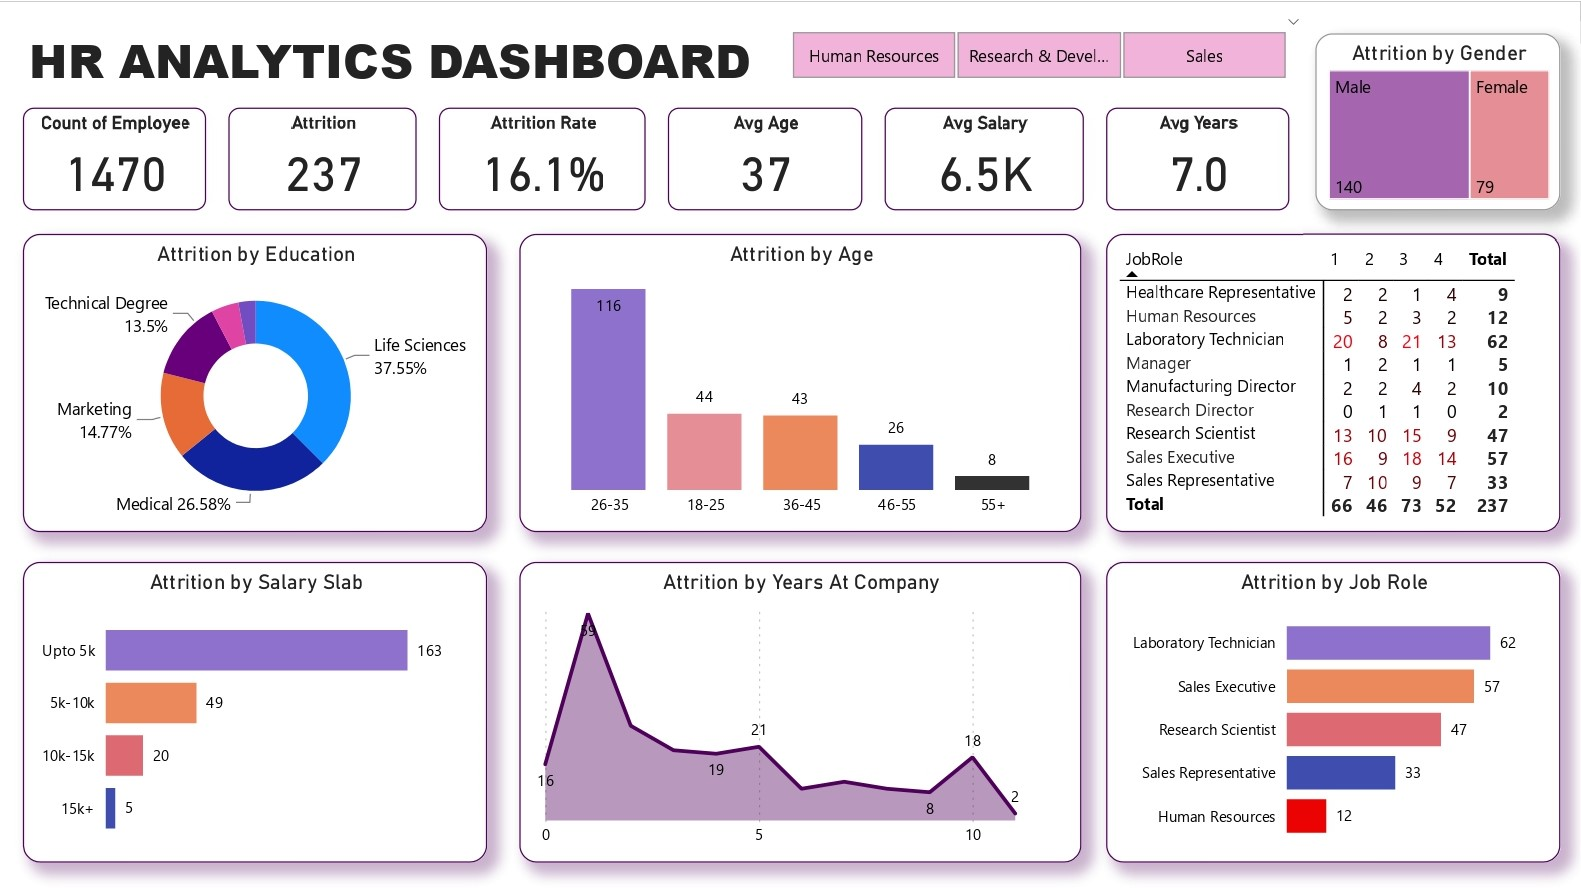

The page's visual inventory and layout, read from the dashboard file:
{"tool":"powerbi","page":{"name":"HR Analytics","canvas":[1280,720],"ordinal":0},"visuals":[{"type":"card","title":"Count of Employee","fields":{"Values":["CountNonNull(HR_Analytics.EmpID)"]},"box":[22.4,86.3,147.9,82.9],"z":0},{"type":"card","title":"Attrition","fields":{"Values":["Sum(HR_Analytics.Attrition_count)"]},"box":[188.4,86.3,151.2,82.9],"z":1000},{"type":"card","title":"Avg Age","fields":{"Values":["Avg(HR_Analytics.Age)"]},"box":[542.8,86.3,156.8,82.9],"z":2000},{"type":"card","title":"Attrition Rate","fields":{"Values":["HR_Analytics.AttritionRate"]},"box":[357.8,86.3,166.9,82.9],"z":3000},{"type":"card","title":"Avg Salary","fields":{"Values":["Avg(HR_Analytics.MonthlyIncome)"]},"box":[717.8,86.3,161.3,82.9],"z":4000},{"type":"card","title":"Avg Years","fields":{"Values":["Avg(HR_Analytics.YearsAtCompany)"]},"box":[897.2,86.3,147.9,82.9],"z":5000},{"type":"donutChart","title":"Attrition by Education","fields":{"Category":["HR_Analytics.EducationField"],"Y":["Sum(HR_Analytics.Attrition_count)"]},"box":[22.4,188.2,374.1,240.8],"z":6000},{"type":"columnChart","title":"Attrition by Age","fields":{"Category":["HR_Analytics.AgeGroup"],"Y":["Sum(HR_Analytics.Attrition_count)"]},"box":[423.4,188.2,453.7,240.8],"z":7000},{"type":"pivotTable","fields":{"Rows":["HR_Analytics.JobRole"],"Columns":["HR_Analytics.JobSatisfaction"],"Values":["Sum(HR_Analytics.Attrition_count)"]},"box":[897.2,188.2,366.3,240.8],"z":8000},{"type":"barChart","title":"Attrition by Salary Slab","fields":{"Category":["HR_Analytics.SalarySlab"],"Y":["Sum(HR_Analytics.Attrition_count)"]},"box":[22.4,452.5,374.1,243.1],"z":9000},{"type":"barChart","title":"Attrition by Job Role","fields":{"Category":["HR_Analytics.JobRole"],"Y":["Sum(HR_Analytics.Attrition_count)"]},"box":[897.2,452.5,366.3,243.1],"z":10000},{"type":"areaChart","title":"Attrition by Years At Company","fields":{"Category":["HR_Analytics.YearsAtCompany"],"Y":["Sum(HR_Analytics.Attrition_count)"]},"box":[423.4,452.5,453.7,243.1],"z":11000},{"type":"treemap","title":"Attrition by Gender","fields":{"Group":["HR_Analytics.Gender"],"Values":["Sum(HR_Analytics.Attrition_count)"]},"box":[1066.4,25.8,197.1,143.4],"z":12000},{"type":"slicer","fields":{"Values":["HR_Analytics.Department"]},"box":[618.3,10.1,448.1,59.4],"z":13000},{"type":"textbox","box":[22.4,15.7,610.5,81.8],"z":14000}]}

Visuals, with their boxes in screenshot pixels (x1, y1, x2, y2), scaled from the page's 1280x720 canvas onto the 1581x889 screenshot:
"Count of Employee" card: 28 107 210 209
"Attrition" card: 233 107 419 209
"Avg Age" card: 670 107 864 209
"Attrition Rate" card: 442 107 648 209
"Avg Salary" card: 887 107 1086 209
"Avg Years" card: 1108 107 1291 209
"Attrition by Education" donutChart: 28 232 490 530
"Attrition by Age" columnChart: 523 232 1083 530
pivotTable - HR_Analytics.JobRole x HR_Analytics.JobSatisfaction: 1108 232 1561 530
"Attrition by Salary Slab" barChart: 28 559 490 859
"Attrition by Job Role" barChart: 1108 559 1561 859
"Attrition by Years At Company" areaChart: 523 559 1083 859
"Attrition by Gender" treemap: 1317 32 1561 209
slicer - HR_Analytics.Department: 764 12 1317 86
textbox: 28 19 782 120
